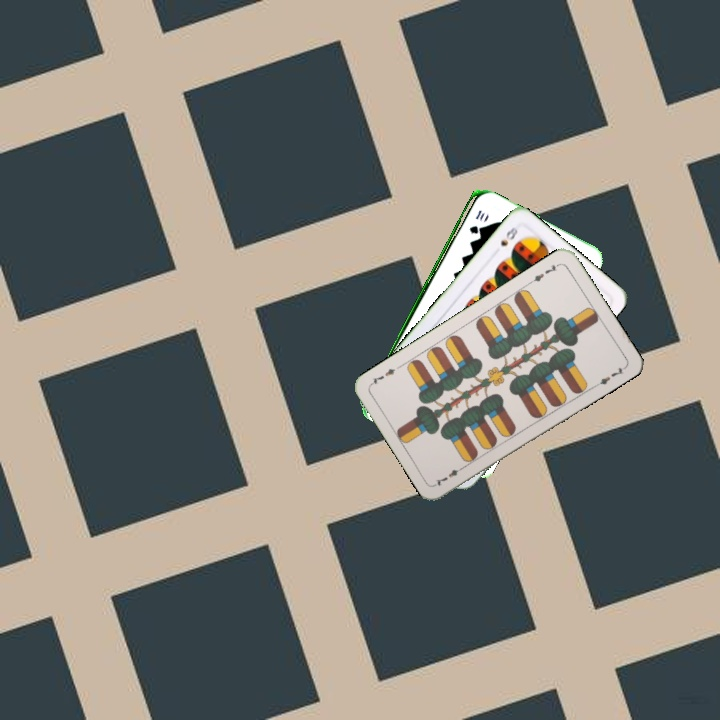E7: (431, 461, 468, 488), (526, 259, 562, 286)
G10: (465, 206, 487, 236)
S8: (496, 220, 520, 249)
